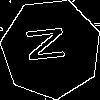N: (26, 23, 75, 64)
